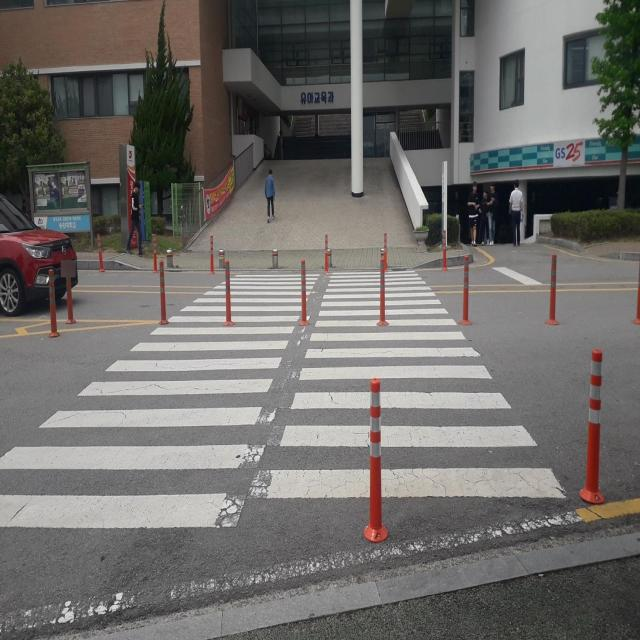횡단보도: (1, 258, 570, 536)
